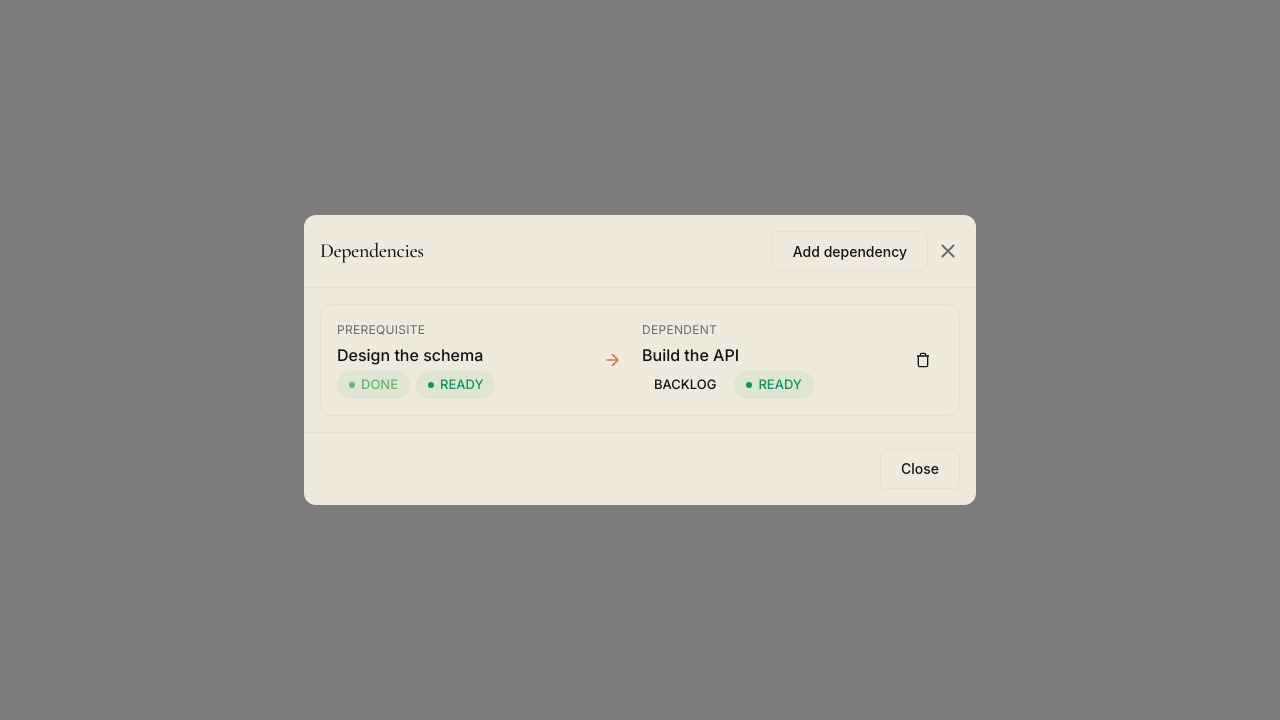
Test: DependencyList removal confirmation › a ready dependent is told the order is lifted
Click the 3rd button. click: (923, 360)
box: [903, 346, 943, 374]
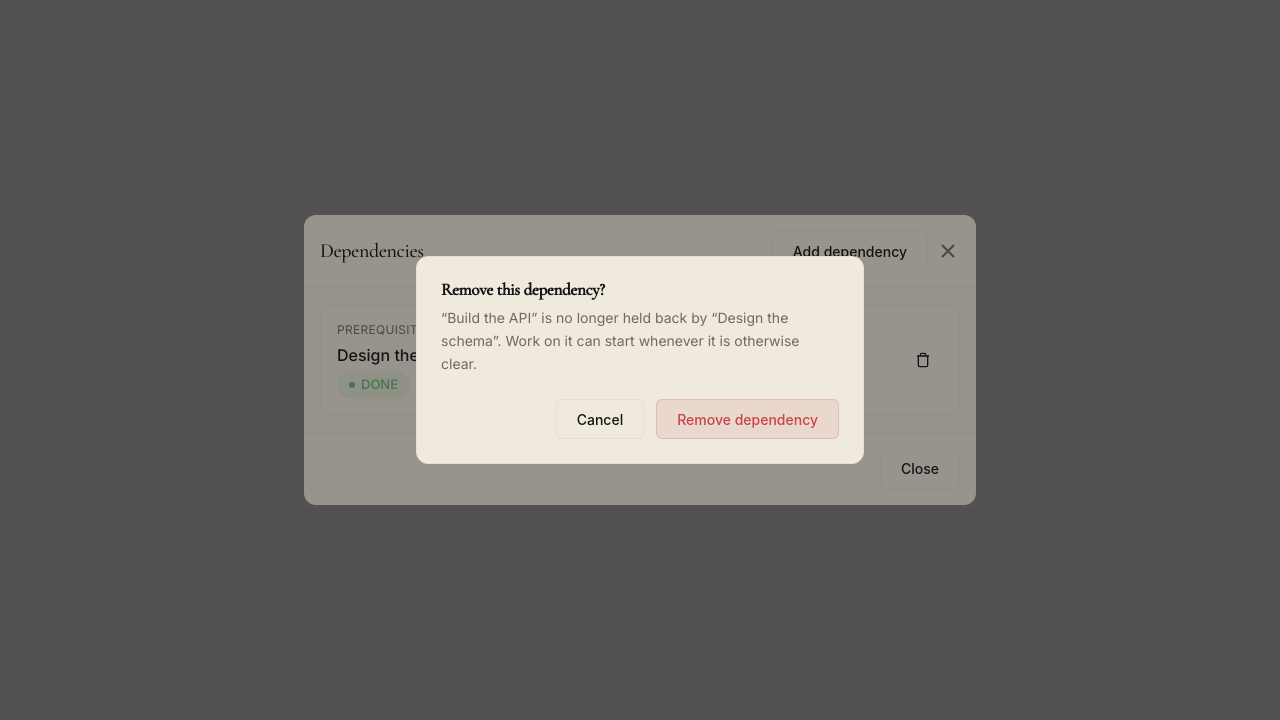
Expected: the text "no longer held back" is shown, [441, 309, 800, 372]
